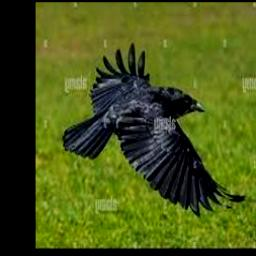Crow: (63, 44, 247, 217)
